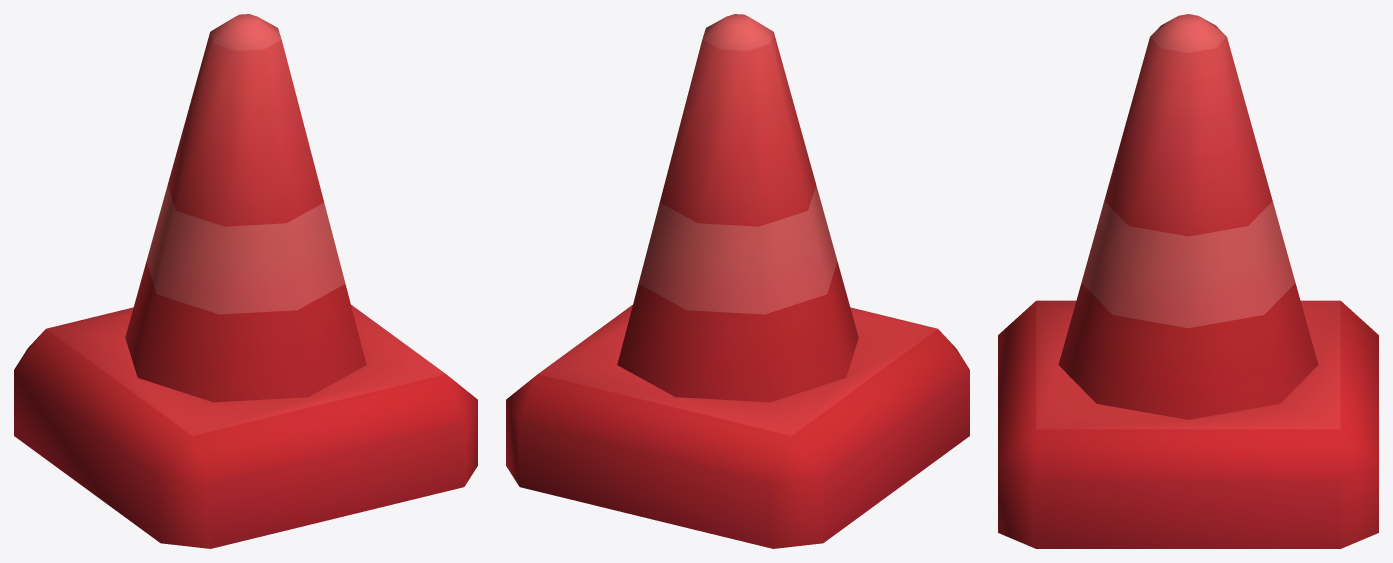
Rendered from kerucut.glb.
The picture shows the model from 3 angles, left to right: view 1: azimuth 30°, elevation 25°; view 2: azimuth 150°, elevation 25°; view 3: azimuth 270°, elevation 25°; orthographic projection. The views are drawn at different scales.
Visible parts, largest first — view 1: cone_red; view 2: cone_red; view 3: cone_red.
Boxes of the visible parts, box(x1,y1,x2,y2) form: cone_red: box(14, 14, 477, 548); cone_red: box(506, 14, 969, 548); cone_red: box(998, 14, 1378, 548).
Bounding box in the file's own units: 1.08 × 1.4 × 1.08.
Materials: 1 (1 with a texture image).
